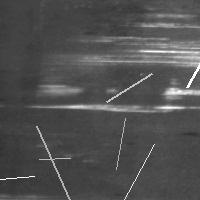scratches: (24, 82, 199, 115), (31, 121, 80, 200), (64, 41, 199, 68), (103, 139, 159, 200), (102, 68, 157, 106), (182, 0, 200, 92), (111, 113, 130, 174), (0, 171, 39, 184), (34, 153, 75, 164)
